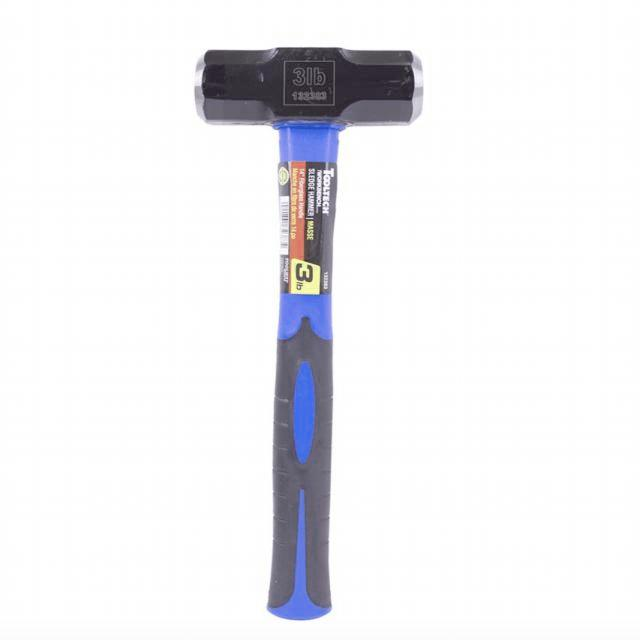hammer: (186, 32, 435, 640)
